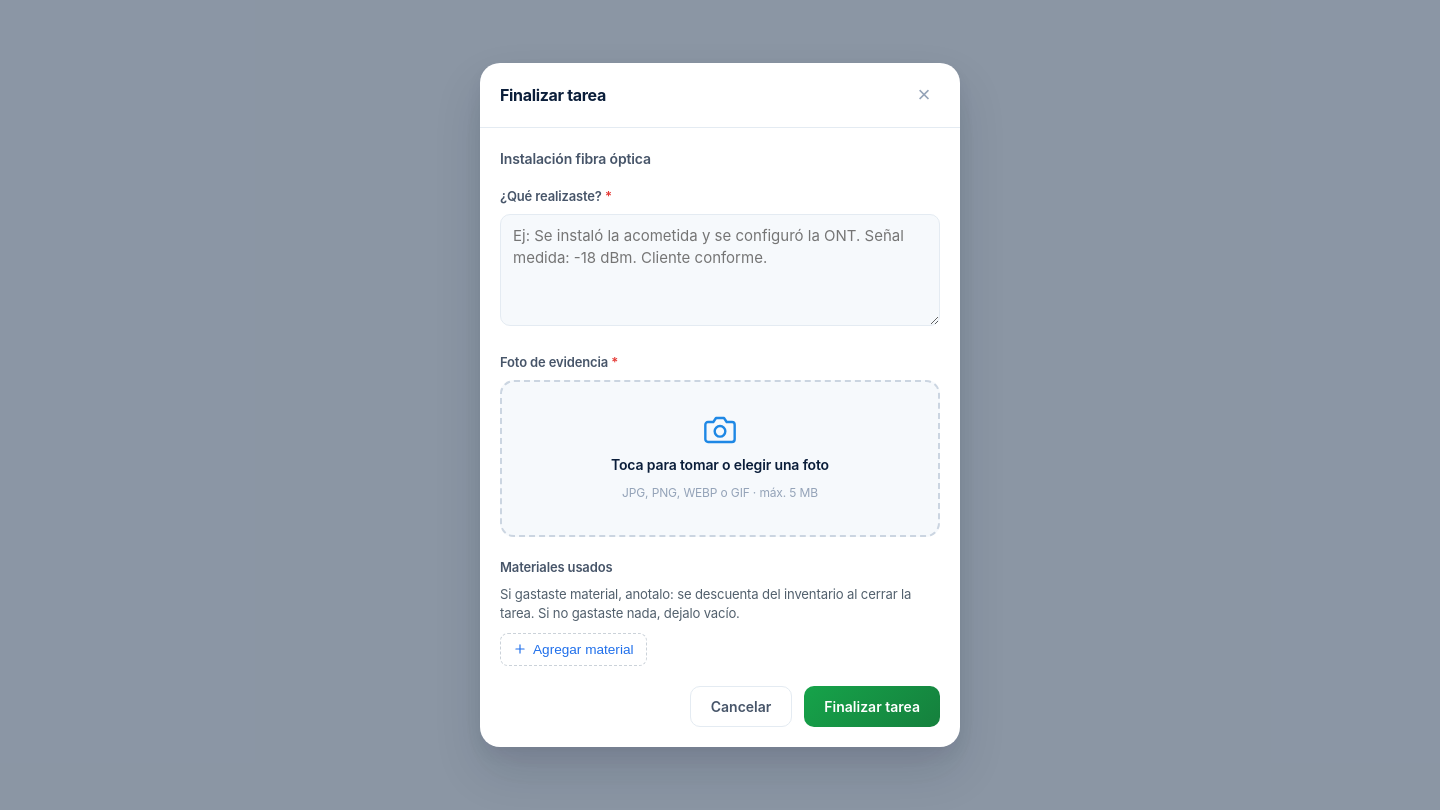
ModalFinalizarTarea › no envía si hay descripción pero falta la foto
Type "Se instaló la acometida y se probó la señal." into the text box labelled "¿Qué realizaste? *". click: (720, 270)
box: [500,214,940,326]
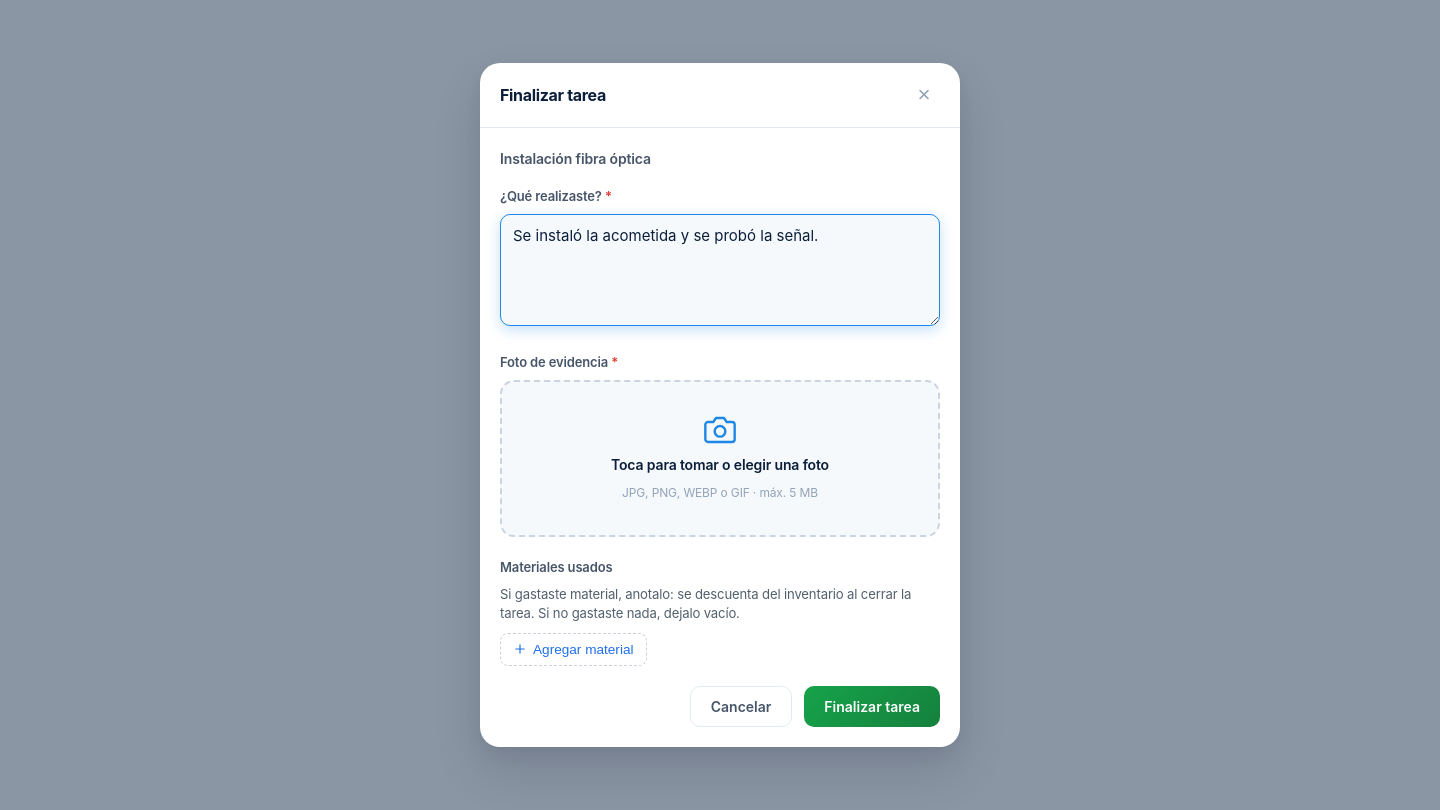
Click the button "Finalizar tarea". click: (872, 706)
box: [804,686,940,727]
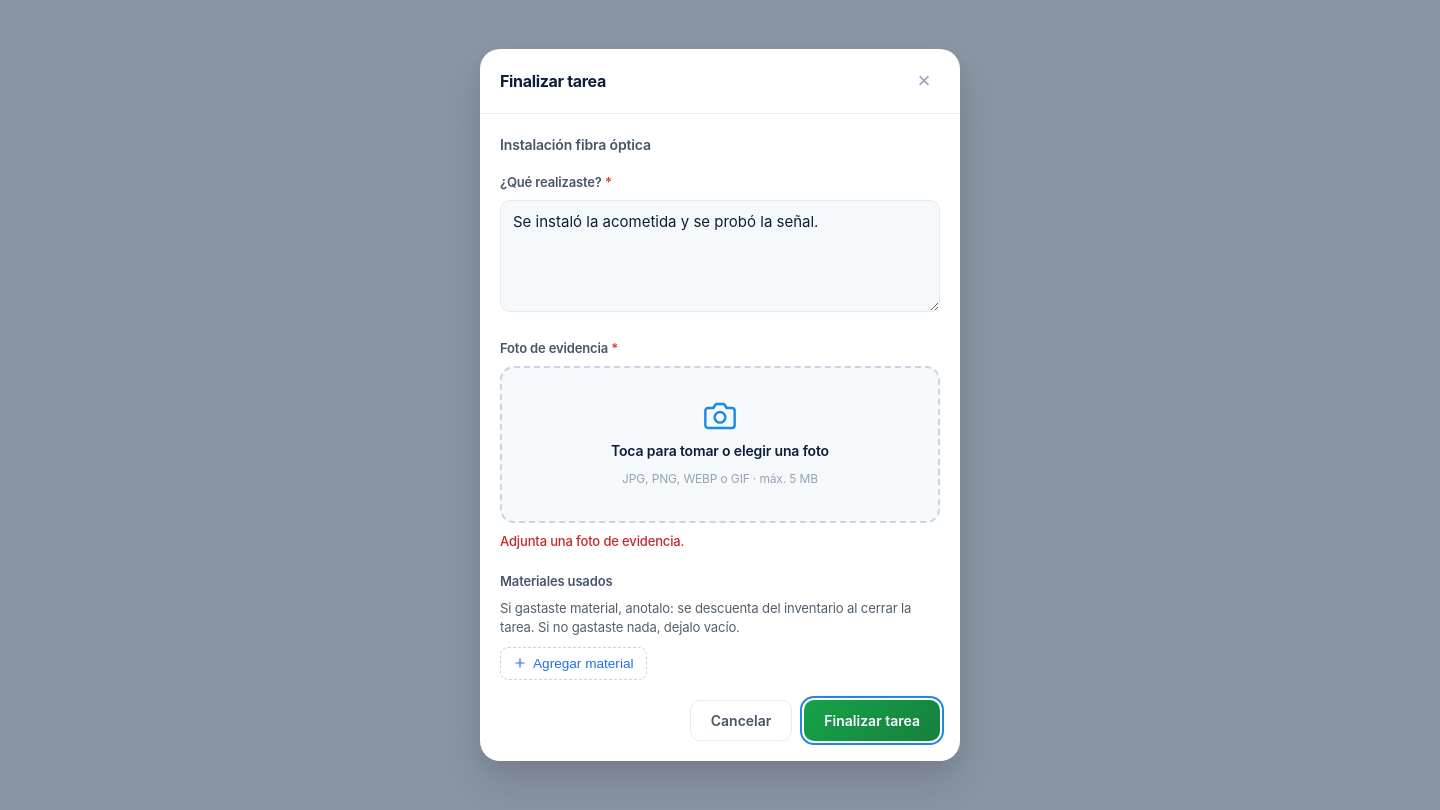
Now the text "Adjunta una foto de evidencia." is shown, box [500,533,684,549]
